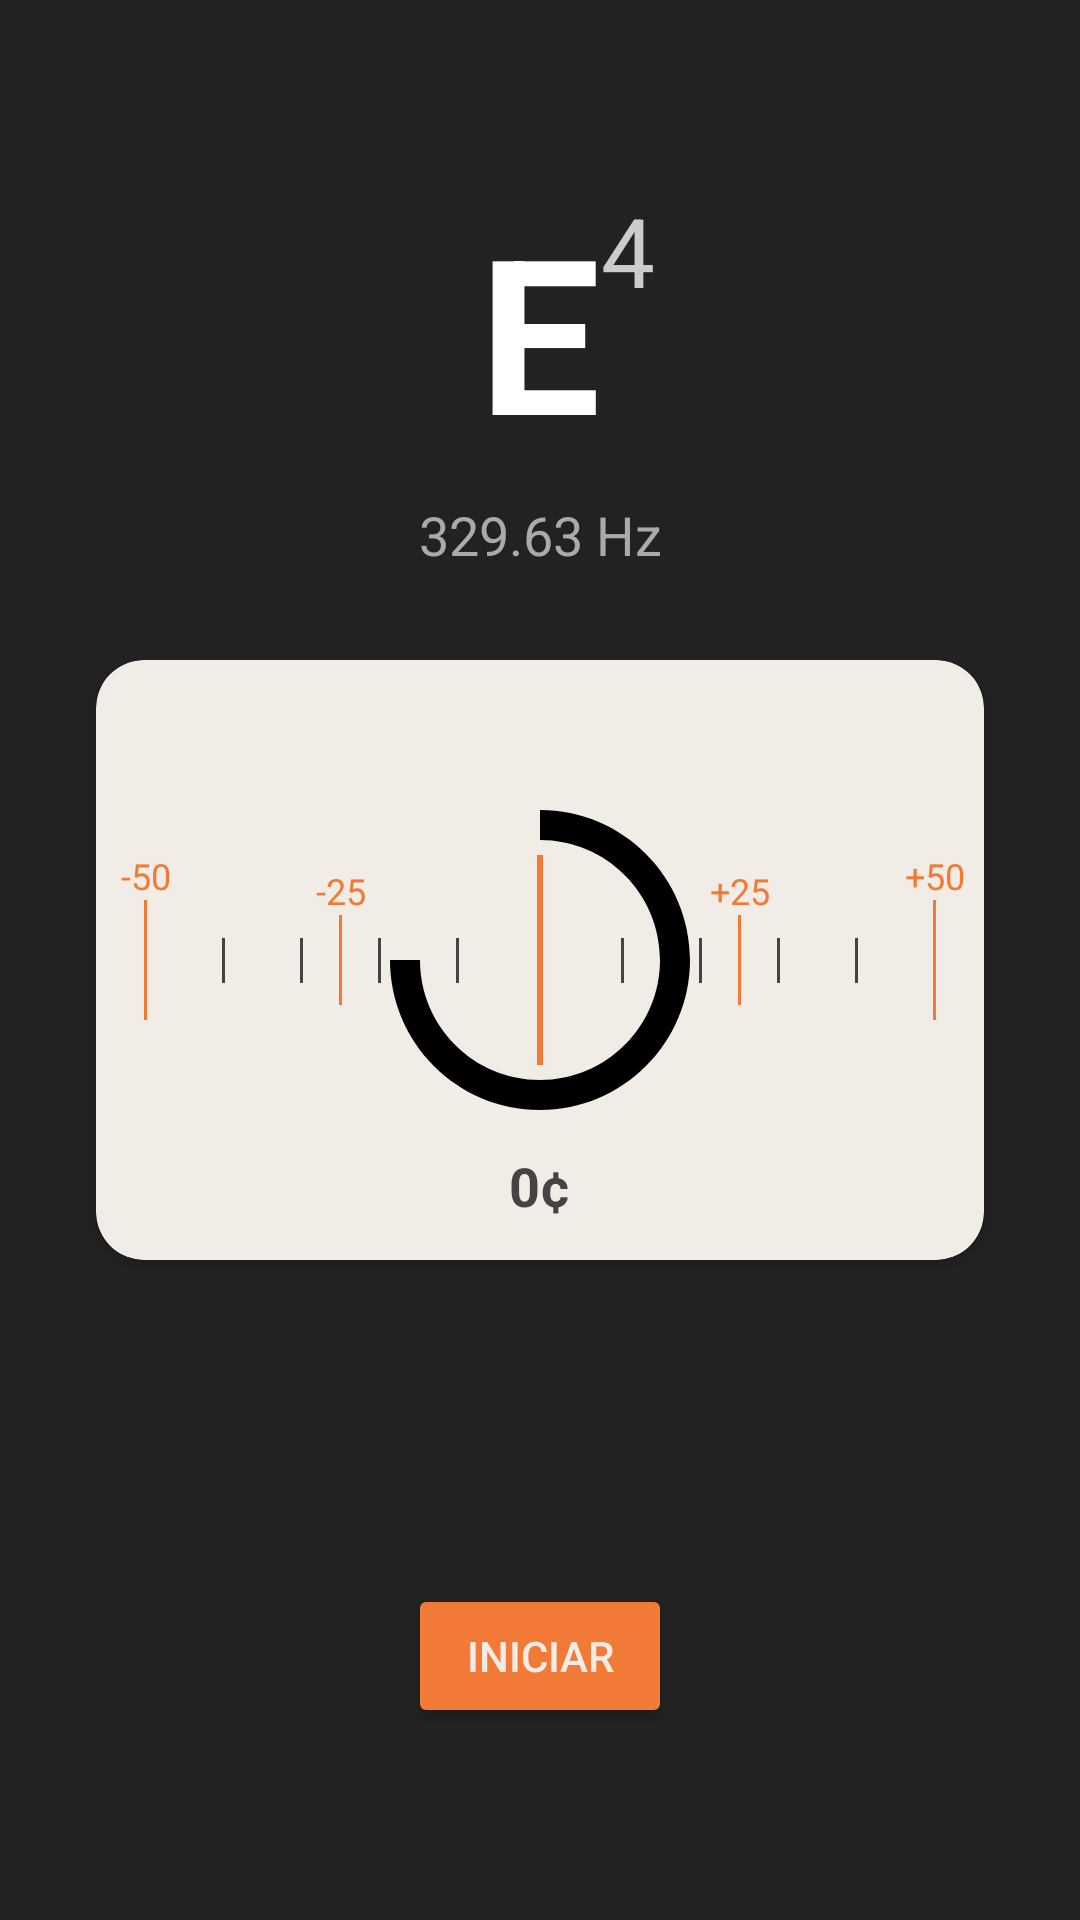

Where to tap for icons on this 1080x1920 app screen, as (x=x, y=y):
agujas: (x=540, y=960)
